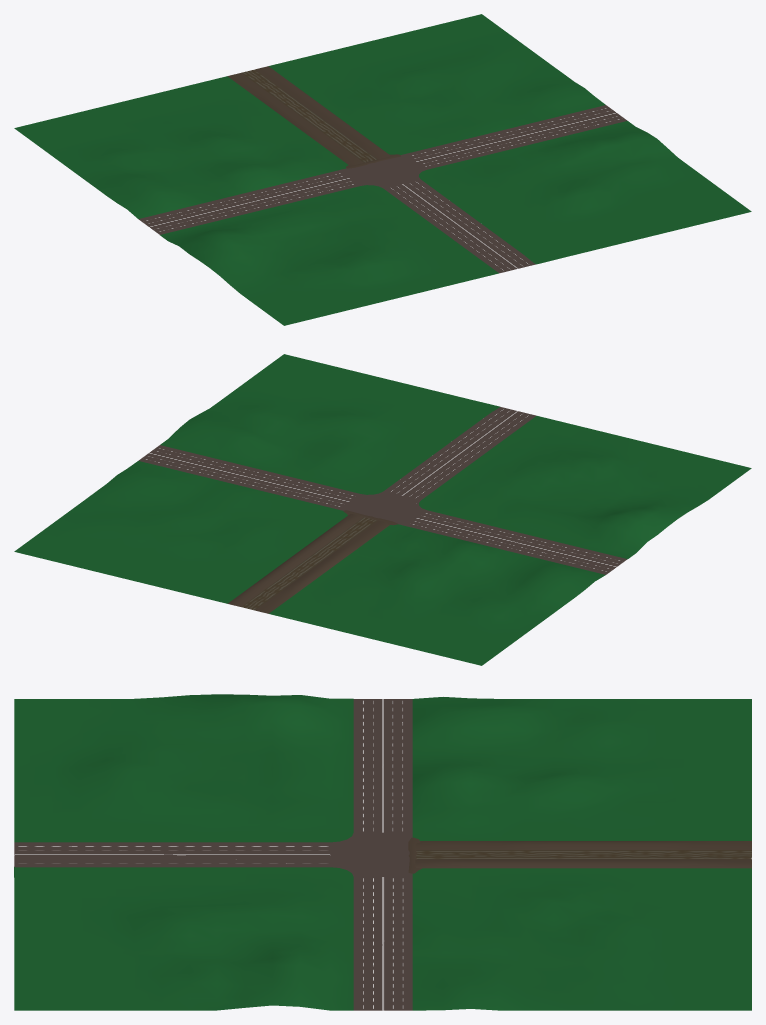
File: TileHighwayForest1.fbx
3 views of the same model, one above another, from view 1: azimuth 30°, elevation 25°; view 2: azimuth 150°, elevation 25°; view 3: azimuth 270°, elevation 25° (orthographic). The views are drawn at different scales.
Parts seen in each view (by area): view 1: Plane.070, Plane.049, Road.003, Road.005, Road.004, Plane.048, Road.006, Road1.022; view 2: Plane.070, Plane.049, Road.003, Road.005, Road.004, Plane.048, Road.006, Road1.022; view 3: Plane.070, Plane.049, Road.004, Road.003, Road.005, Plane.048, Road.006, Road1.022.
Part boxes in pixels (bbox=[...]): Plane.070: bbox=[160, 121, 751, 325]; Plane.049: bbox=[14, 14, 605, 218]; Road.003: bbox=[406, 105, 627, 169]; Road.005: bbox=[138, 170, 359, 234]; Road.004: bbox=[384, 179, 535, 273]; Plane.048: bbox=[227, 66, 400, 168]; Road.006: bbox=[241, 69, 376, 162]; Road1.022: bbox=[339, 154, 426, 188]; Plane.070: bbox=[160, 354, 751, 558]; Plane.049: bbox=[14, 461, 605, 665]; Road.003: bbox=[138, 445, 359, 509]; Road.005: bbox=[406, 510, 627, 574]; Road.004: bbox=[384, 407, 536, 500]; Plane.048: bbox=[227, 510, 397, 613]; Road.006: bbox=[241, 517, 377, 610]; Road1.022: bbox=[339, 491, 426, 525]; Plane.070: bbox=[14, 694, 353, 1010]; Plane.049: bbox=[412, 697, 751, 1010]; Road.004: bbox=[14, 842, 330, 867]; Road.003: bbox=[353, 877, 412, 1010]; Road.005: bbox=[353, 699, 412, 832]; Plane.048: bbox=[408, 837, 751, 873]; Road.006: bbox=[416, 850, 751, 859]; Road1.022: bbox=[330, 832, 412, 876].
Size of the model in its own units: 20013 by 543 by 20010.
